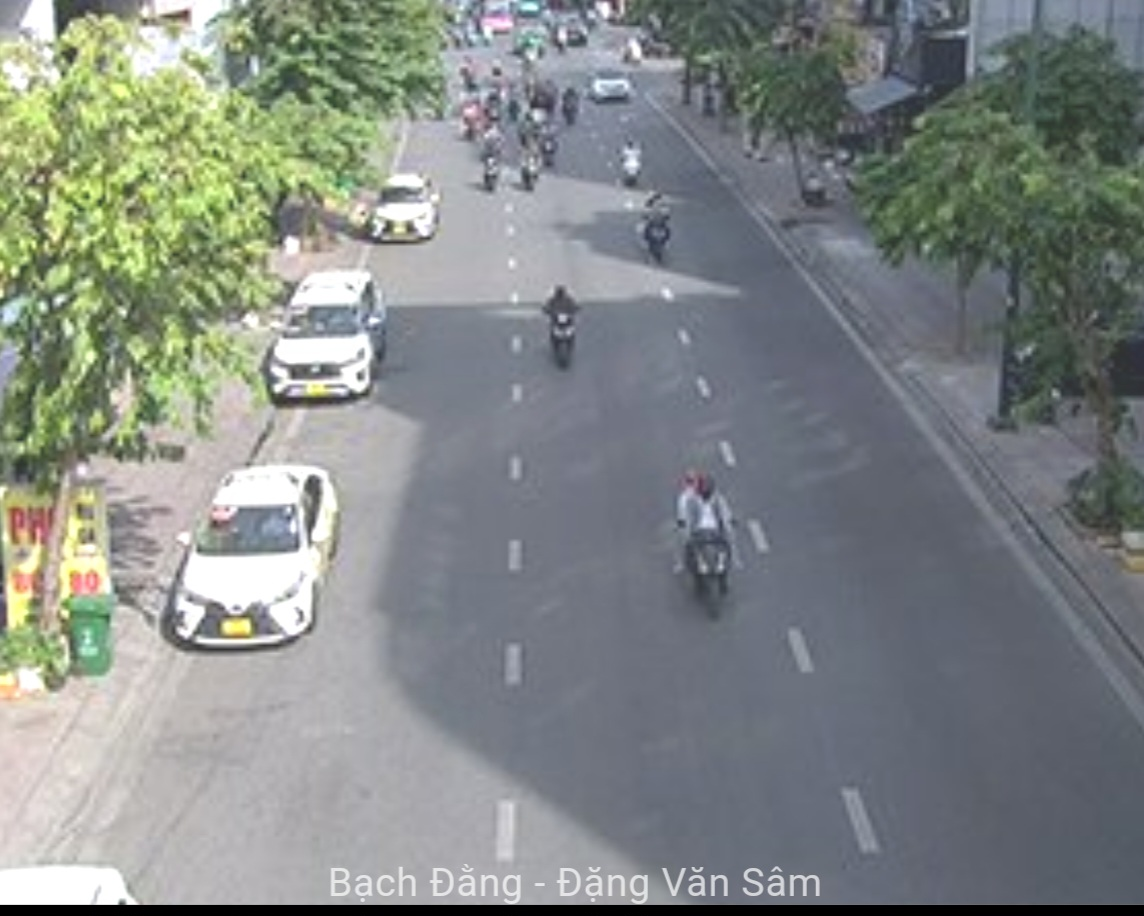car: (171, 460, 337, 652), (266, 267, 384, 405), (366, 171, 445, 243), (584, 66, 637, 104)
